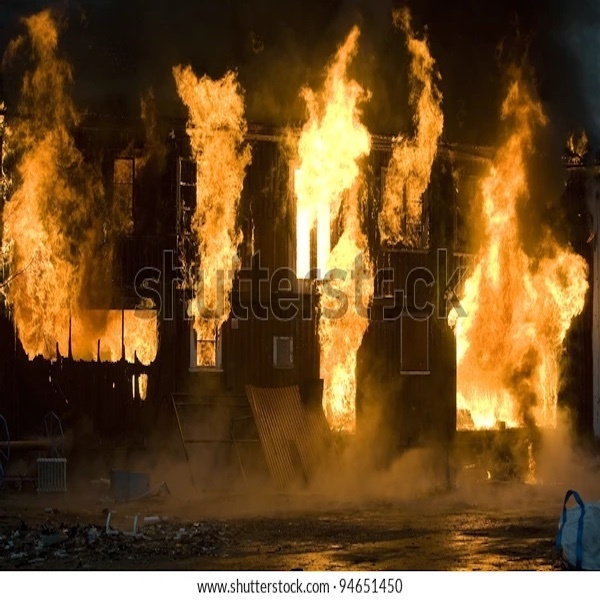fire: (457, 40, 590, 469), (2, 13, 137, 363), (180, 64, 247, 370), (288, 27, 373, 229), (383, 9, 446, 253), (321, 246, 368, 434)
